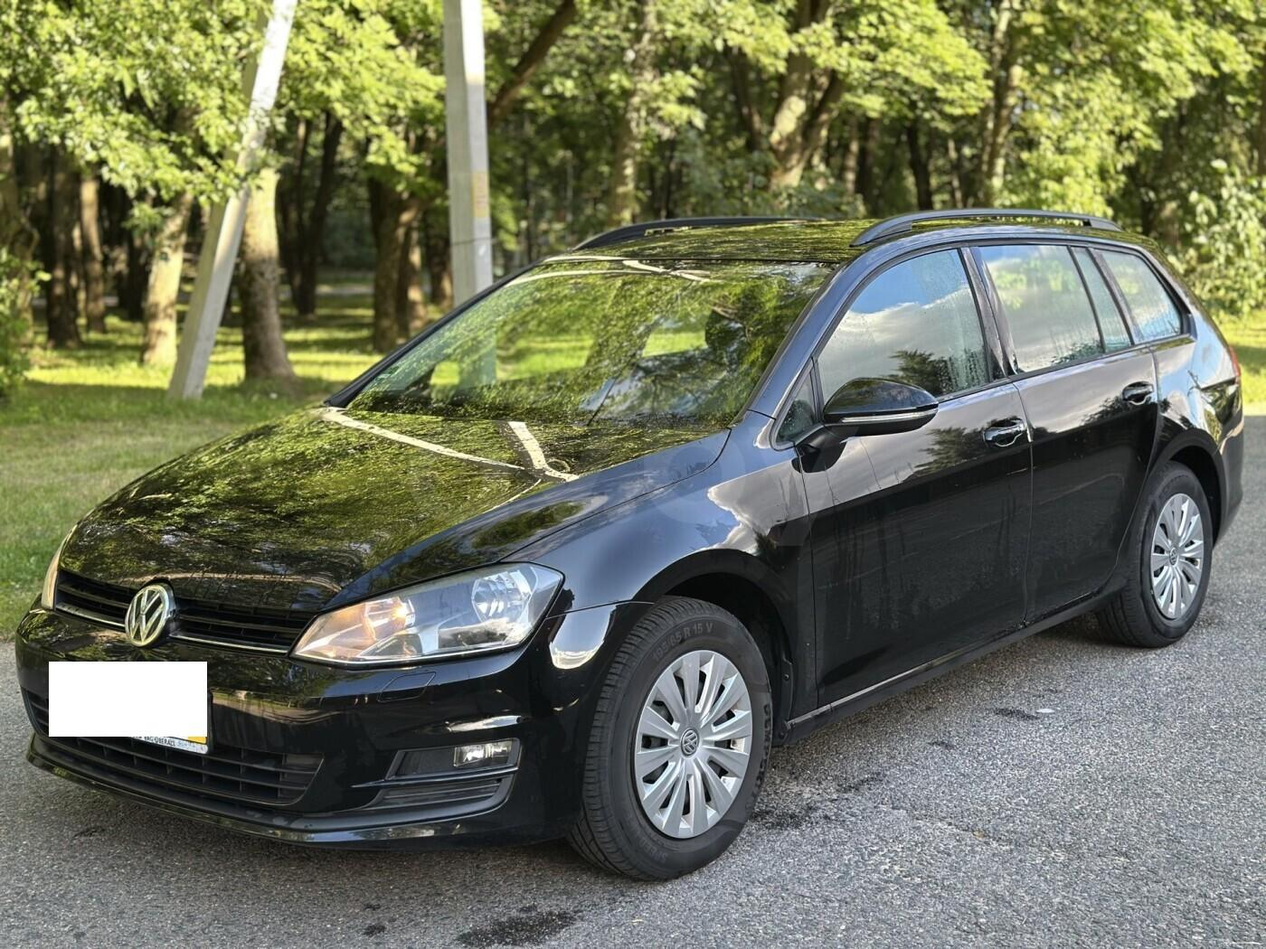Golf_2012-2017: (11, 214, 1246, 872)
